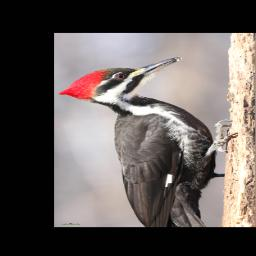Woodpecker: (58, 54, 233, 227)
